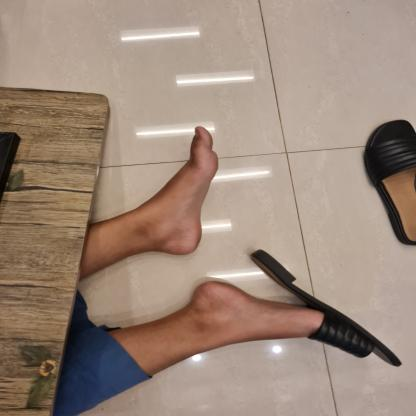leg: (123, 246, 407, 372), (76, 119, 230, 284)
